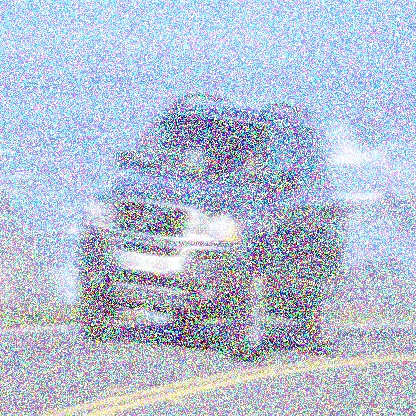Vehicle: (79, 94, 347, 366)
